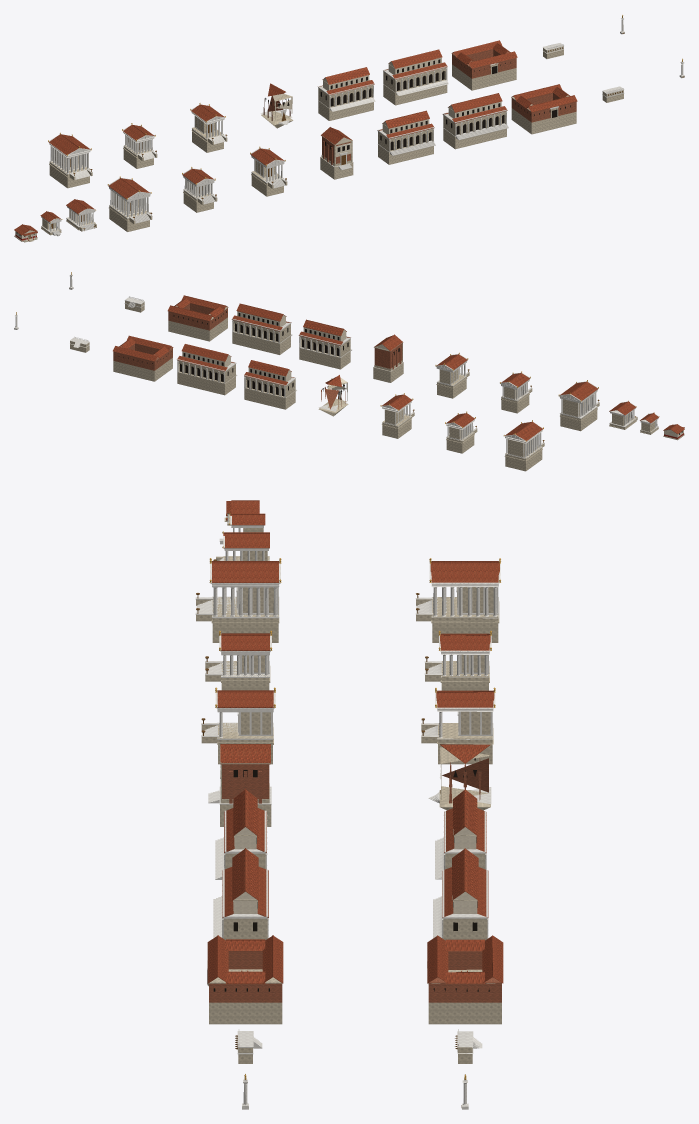
The model's file is buildings.glb.
The picture shows the model from 3 angles, top to bottom: view 1: azimuth 30°, elevation 25°; view 2: azimuth 150°, elevation 25°; view 3: azimuth 270°, elevation 25°; orthographic projection. The views are drawn at different scales.
Parts seen in each view (by area): view 1: civic_iulia_lod, civic_iulia, civic_horrea, civic_horrea_lod, civic_aemilia, civic_aemilia_lod, civic_iovis, civic_iovis_lod, civic_curia, civic_saturni, civic_saturni_lod, civic_moneta (+4 smaller); view 2: civic_iulia, civic_iulia_lod, civic_horrea, civic_horrea_lod, civic_aemilia, civic_aemilia_lod, civic_iovis, civic_iovis_lod, civic_curia, civic_saturni, civic_saturni_lod, civic_moneta (+4 smaller); view 3: civic_horrea, civic_horrea_lod, civic_iovis, civic_iovis_lod, civic_iulia, civic_iulia_lod, civic_saturni_lod, civic_saturni, civic_curia, civic_moneta, civic_moneta_lod, civic_aemilia (+3 smaller).
Boxes of the visible parts, x1,y1,x2,y2 form: civic_iulia_lod: (383, 49, 448, 105); civic_iulia: (442, 93, 508, 149); civic_horrea: (511, 84, 577, 134); civic_horrea_lod: (451, 40, 517, 90); civic_aemilia: (377, 110, 435, 164); civic_aemilia_lod: (317, 67, 375, 120); civic_iovis: (107, 176, 152, 231); civic_iovis_lod: (48, 132, 92, 188); civic_curia: (320, 127, 353, 179); civic_saturni: (250, 146, 287, 196); civic_saturni_lod: (190, 103, 227, 152); civic_moneta: (182, 167, 217, 212); civic_iulia: (231, 303, 292, 354); civic_iulia_lod: (177, 344, 237, 395); civic_horrea: (167, 295, 228, 341); civic_horrea_lod: (113, 335, 173, 381); civic_aemilia: (298, 319, 351, 369); civic_aemilia_lod: (244, 360, 296, 409); civic_iovis: (558, 380, 599, 431); civic_iovis_lod: (503, 420, 544, 471); civic_curia: (373, 334, 403, 382); civic_saturni: (435, 352, 469, 398); civic_saturni_lod: (380, 393, 414, 438); civic_moneta: (500, 371, 532, 413); civic_horrea: (207, 935, 283, 1024); civic_horrea_lod: (427, 935, 503, 1024); civic_iovis: (195, 558, 281, 642); civic_iovis_lod: (415, 558, 500, 642); civic_iulia: (213, 848, 268, 940); civic_iulia_lod: (433, 848, 488, 940); civic_saturni_lod: (421, 687, 495, 764); civic_saturni: (201, 687, 275, 764); civic_curia: (208, 744, 271, 826); civic_moneta: (205, 630, 272, 690); civic_moneta_lod: (424, 630, 491, 690); civic_aemilia: (215, 788, 267, 879).
Bounding box in the file's own units: 386 × 22.45 × 83.95.
10 materials, 6 textured.
